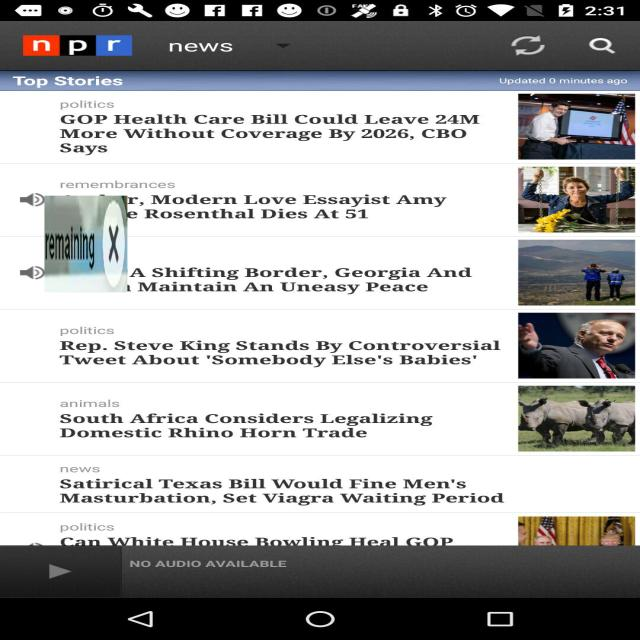misdirection: (44, 196, 128, 292)
